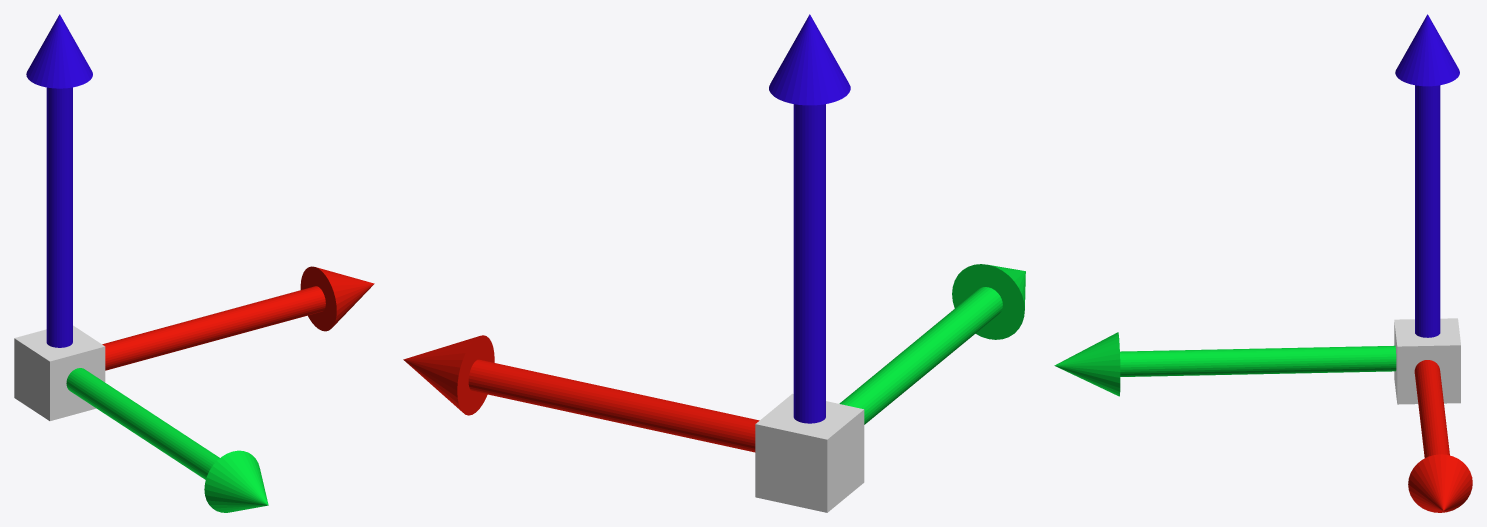
File: gizmos.glb
3 views of the same model, side by side, from view 1: azimuth 30°, elevation 25°; view 2: azimuth 150°, elevation 25°; view 3: azimuth 270°, elevation 25° (orthographic). The views are drawn at different scales.
Visible parts, largest first — view 1: z.002; view 2: z.002; view 3: z.002.
Part boxes in pixels (x1,y1,x2,y2): z.002: (14,14,374,512); z.002: (403,14,1025,512); z.002: (1054,14,1472,512).
Size of what is drawn, in the model's own units: 1.66 by 1.74 by 1.75.
